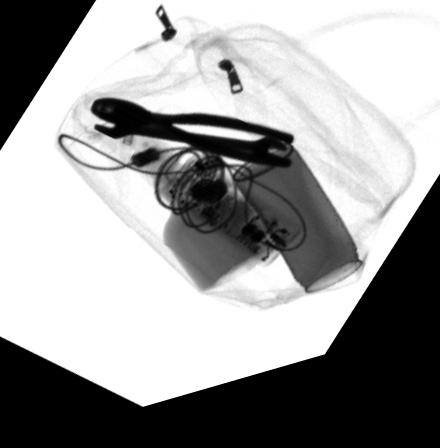Pliers: (88, 100, 297, 188)
Wrench: (89, 125, 289, 166)
